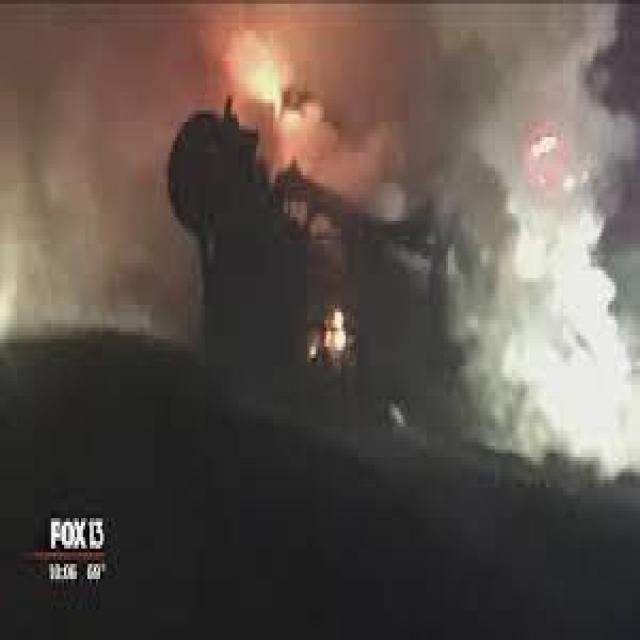fire: (214, 24, 355, 187), (314, 275, 350, 362)
smoke: (480, 197, 632, 479), (0, 75, 175, 316)
